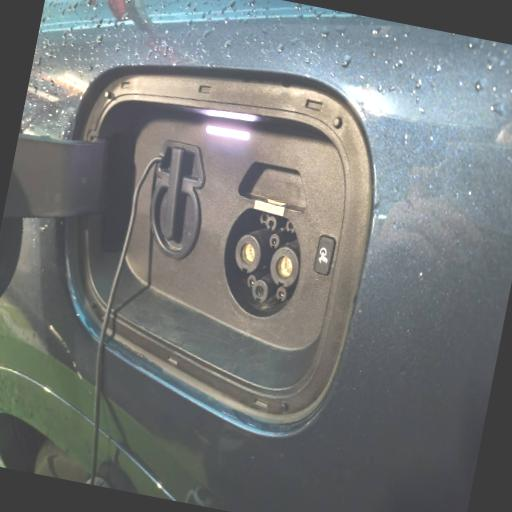DC_charging_port: (210, 200, 312, 326)
DC_hole: (266, 243, 303, 290), (231, 230, 266, 276)
PE: (248, 278, 271, 307)
